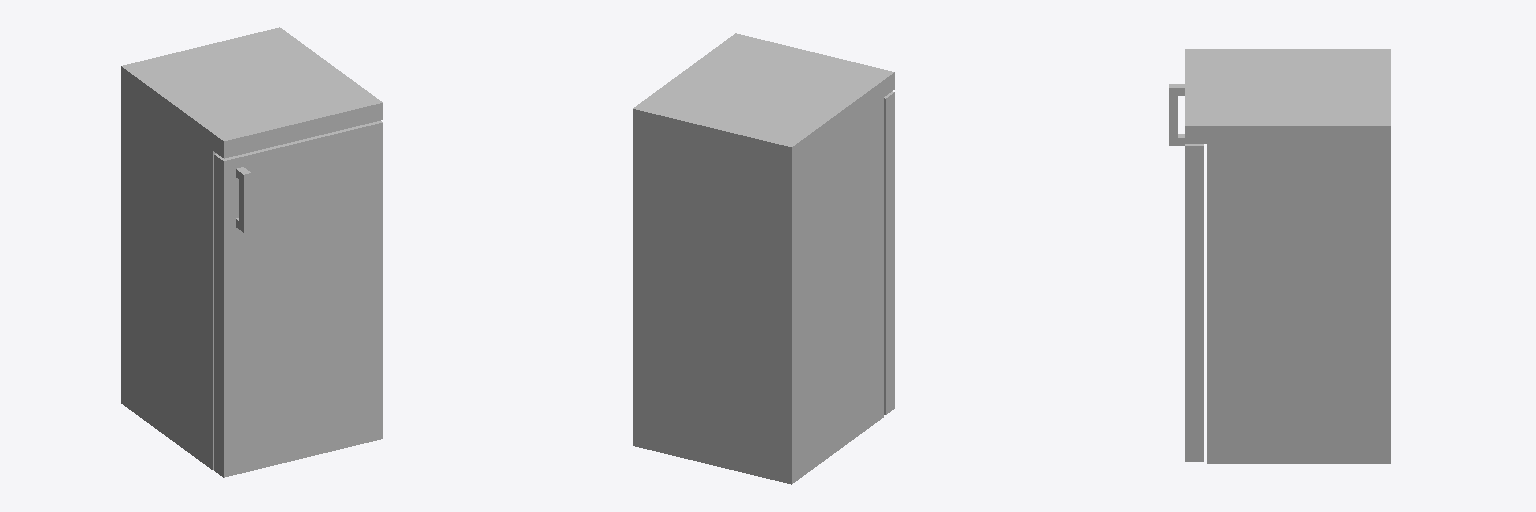
The model's file is mobile_cucina_Scene.obj.
3 views of the same model, side by side, from view 1: azimuth 30°, elevation 25°; view 2: azimuth 150°, elevation 25°; view 3: azimuth 270°, elevation 25° (orthographic).
Parts seen in each view (by area): view 1: Cube_Cube_Wood_Cherry, Cube_Cube_Material, Cube_Cube_Aluminum; view 2: Cube_Cube_Wood_Cherry, Cube_Cube_Material; view 3: Cube_Cube_Wood_Cherry, Cube_Cube_Material, Cube_Cube_Aluminum.
Boxes of the visible parts, <box> form: Cube_Cube_Wood_Cherry: <box>121,84,382,477</box>; Cube_Cube_Material: <box>121,27,382,158</box>; Cube_Cube_Aluminum: <box>213,151,251,469</box>; Cube_Cube_Wood_Cherry: <box>633,91,894,484</box>; Cube_Cube_Material: <box>633,33,894,163</box>; Cube_Cube_Wood_Cherry: <box>1185,144,1390,463</box>; Cube_Cube_Material: <box>1185,49,1390,143</box>; Cube_Cube_Aluminum: <box>1169,84,1184,145</box>.
Size of the model in its own units: 2 by 4.05 by 2.42.